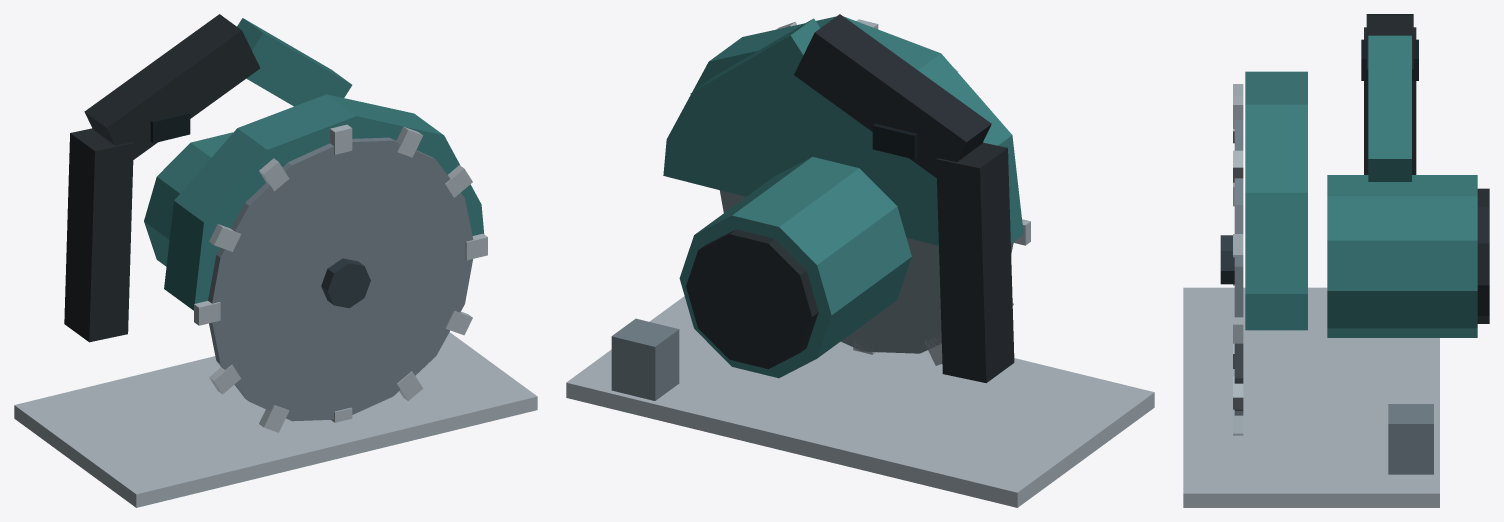
The model's file is b06_circular_saw.glb.
3 renders of one model, left to right at view 1: azimuth 30°, elevation 25°; view 2: azimuth 150°, elevation 25°; view 3: azimuth 270°, elevation 25°, orthographic. The views are drawn at different scales.
Visible parts, largest first — view 1: b06_circular_saw; view 2: b06_circular_saw; view 3: b06_circular_saw.
Boxes of the visible parts, left/top/right/bottom form: b06_circular_saw: left=14, top=14, right=537, bottom=507; b06_circular_saw: left=566, top=14, right=1154, bottom=507; b06_circular_saw: left=1183, top=14, right=1489, bottom=507.
Size of the model in its own units: 0.279 by 0.2436 by 0.1755.
